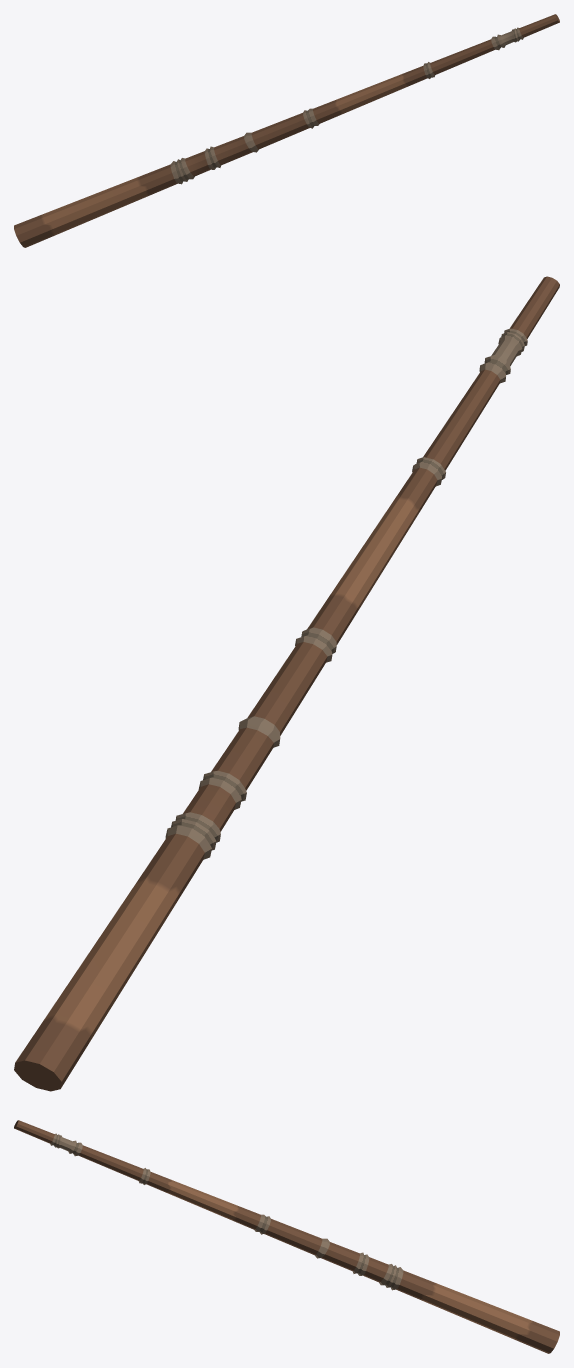
File: SM_Veh_Ship_M_Bowsprit_01.fbx
3 renders of one model, top to bottom at view 1: azimuth 90°, elevation 25°; view 2: azimuth 150°, elevation 25°; view 3: azimuth 270°, elevation 25°, orthographic. The views are drawn at different scales.
Visible parts, largest first — view 1: SM_Veh_Ship_M_Bowsprit_01; view 2: SM_Veh_Ship_M_Bowsprit_01; view 3: SM_Veh_Ship_M_Bowsprit_01.
Boxes of the visible parts, x1,y1,x2,y2 form: SM_Veh_Ship_M_Bowsprit_01: (14,14,559,247); SM_Veh_Ship_M_Bowsprit_01: (14,276,559,1091); SM_Veh_Ship_M_Bowsprit_01: (14,1120,559,1353).
Size of the model in its own units: 81.52 by 721 by 1542.
